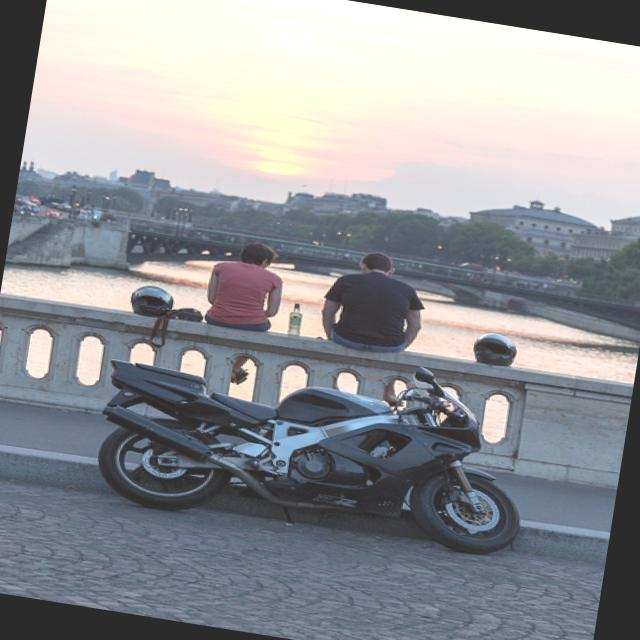Vehicle: (83, 316, 548, 568), (451, 260, 489, 274), (18, 202, 41, 214), (48, 210, 62, 218), (14, 193, 22, 205), (48, 202, 59, 210)
